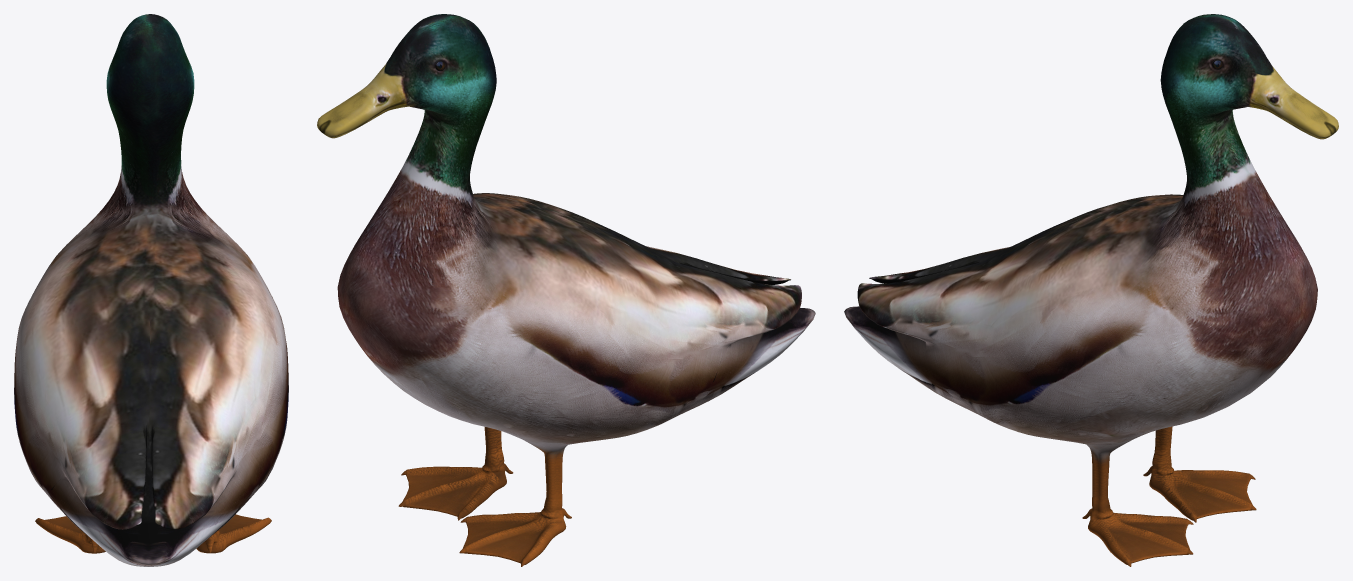
Rendered from bird1.obj.
The picture shows the model from 3 angles, left to right: view 1: azimuth 30°, elevation 25°; view 2: azimuth 150°, elevation 25°; view 3: azimuth 270°, elevation 25°; orthographic projection. The views are drawn at different scales.
Visible parts, largest first — view 1: bird.001; view 2: bird.001; view 3: bird.001.
Part boxes in pixels (x1,y1,x2,y2): bird.001: (14,14,288,566); bird.001: (317,14,815,566); bird.001: (844,14,1338,566).
Bounding box in the file's own units: 0.523 × 0.8631 × 0.7555.
1 material, 1 textured.
